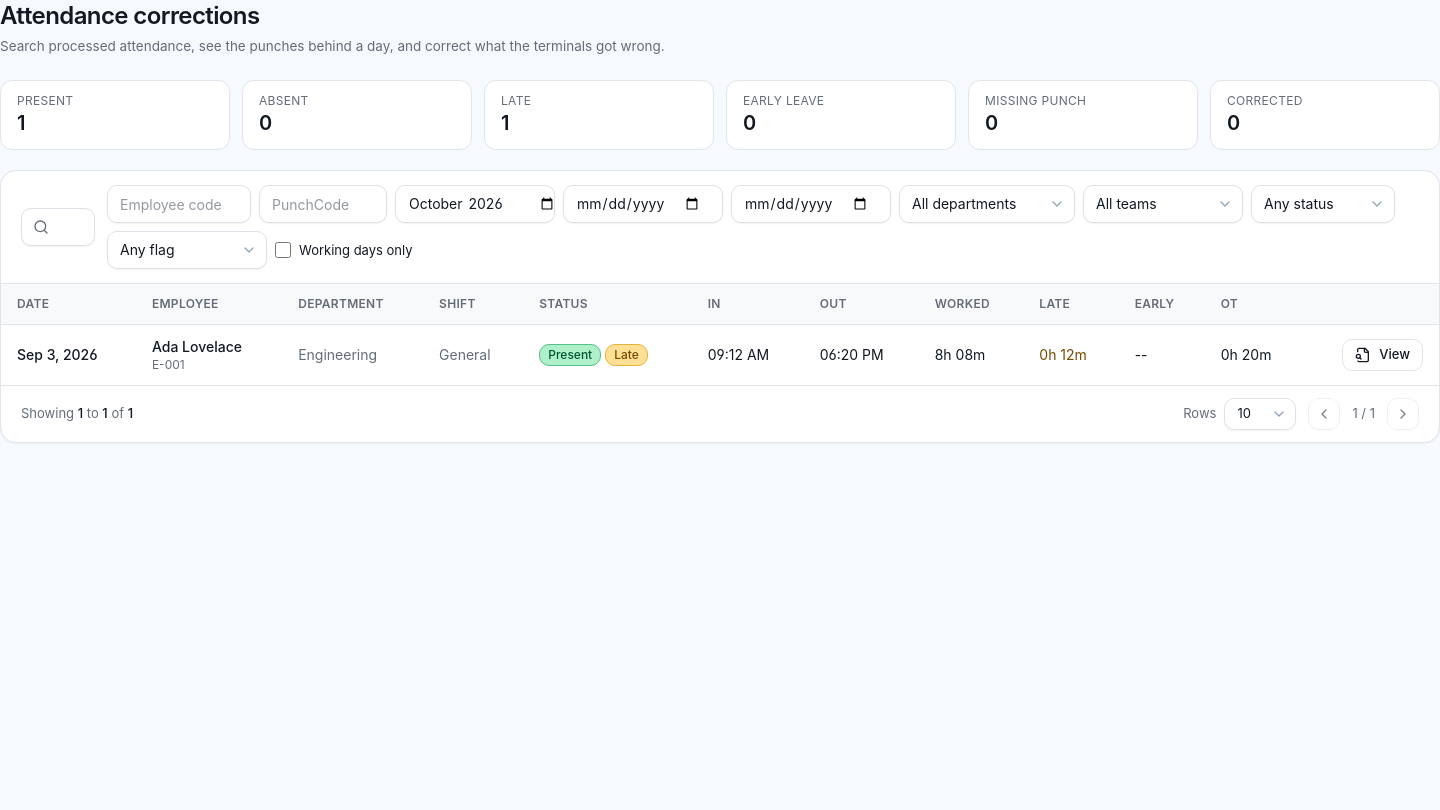
Test case: correction permissions › gives a read-only viewer the evidence and no way to change it
This screenshot has width=1440, height=810.
Click the button "View". click: (1383, 355)
box: x1=1342 y1=339 x2=1423 y2=371
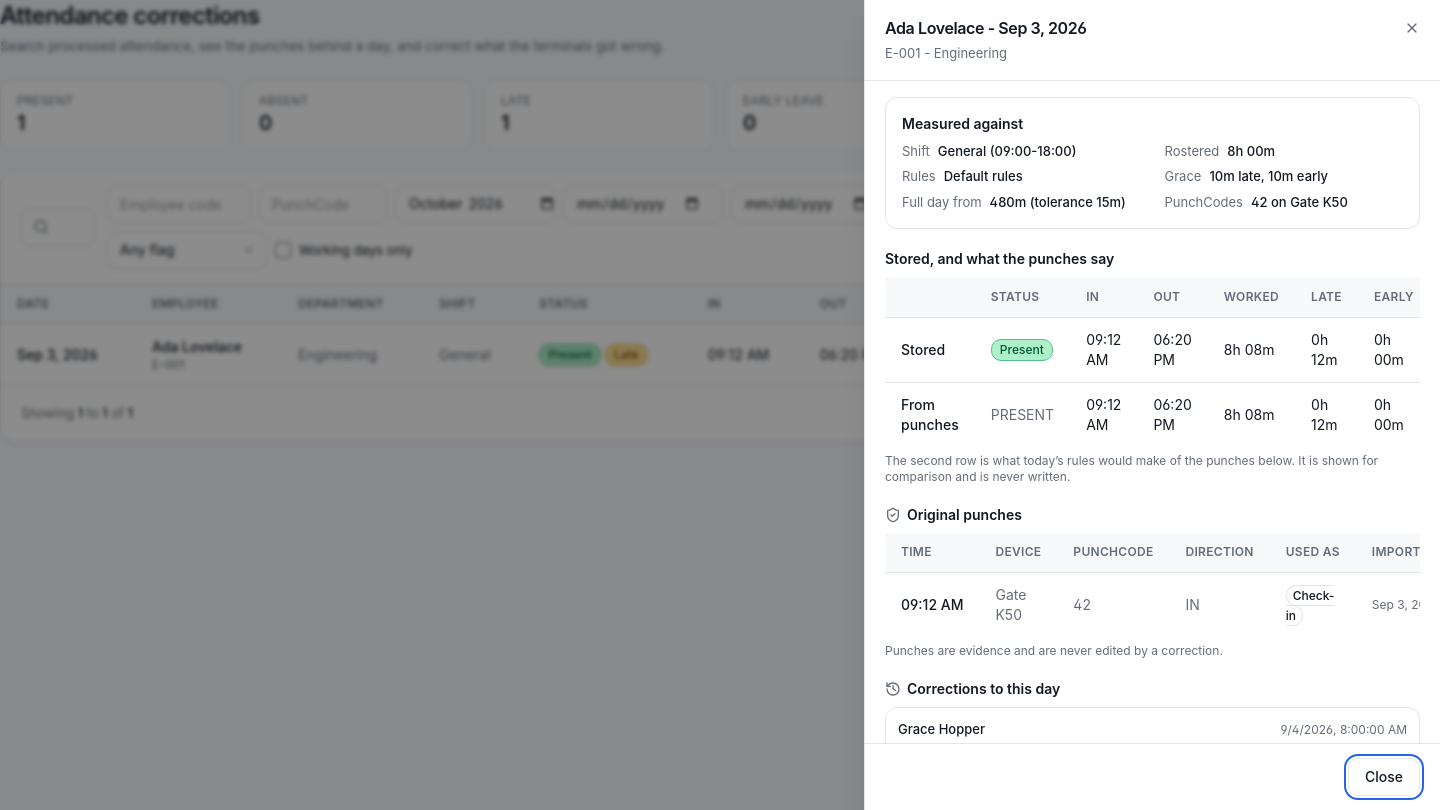
Expected: the heading "Original punches" is shown, x1=885 y1=506 x2=1022 y2=522
